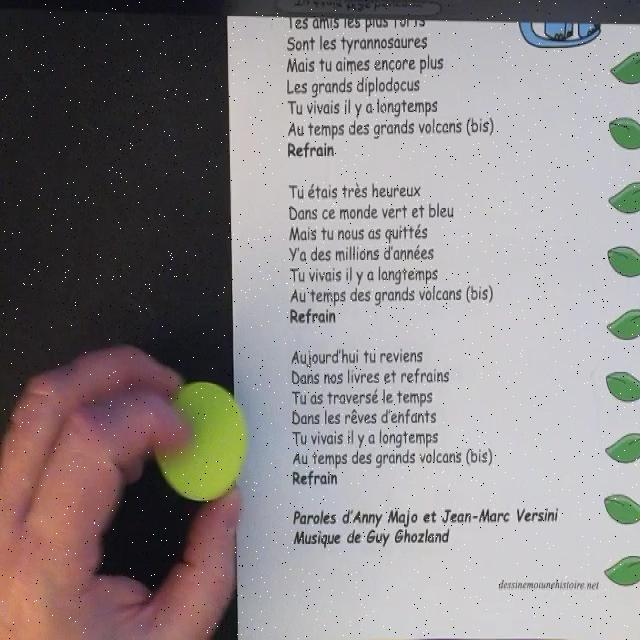round: (152, 380, 247, 502)
